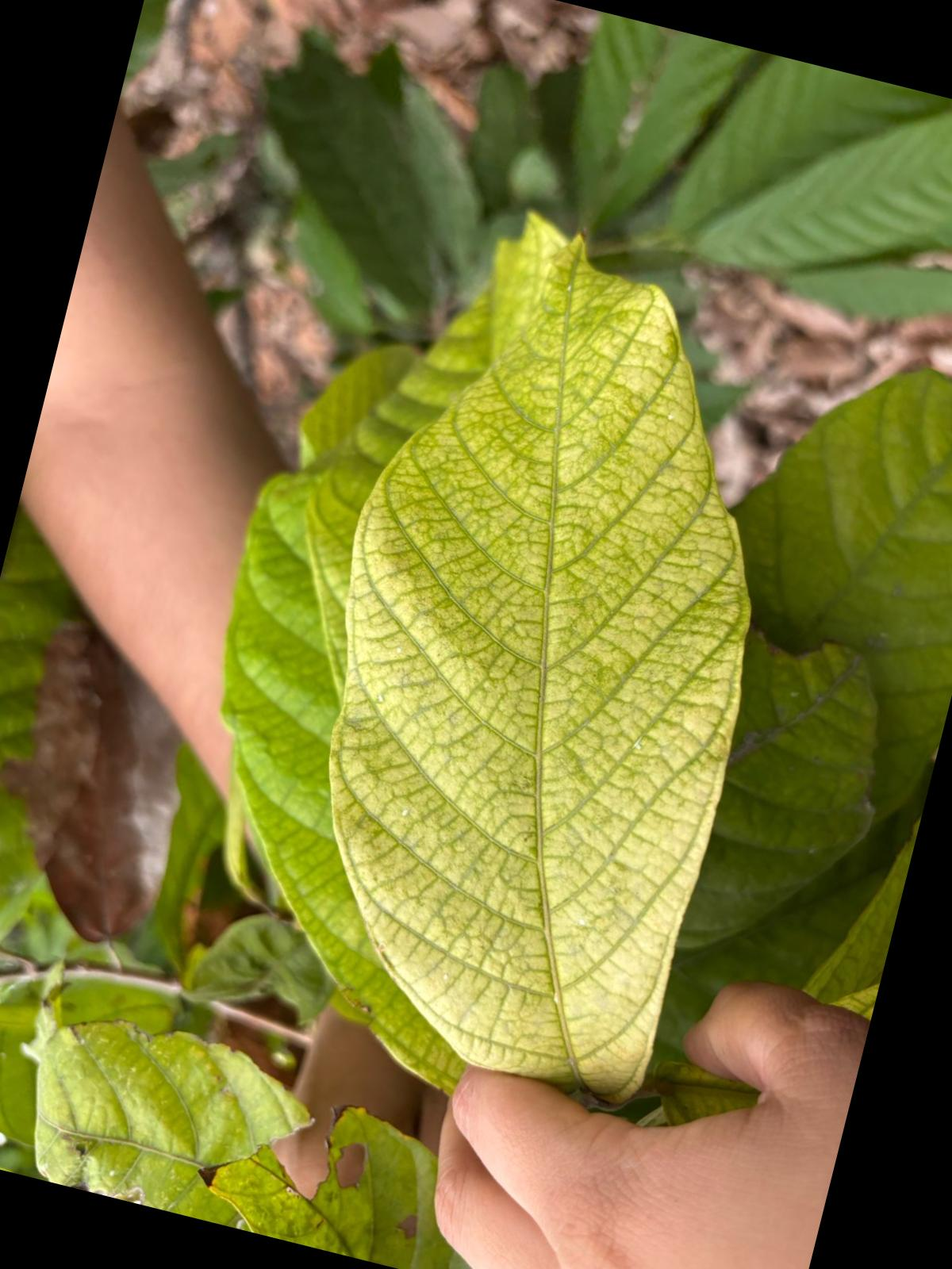Nitrogeno: (330, 242, 749, 1099)
